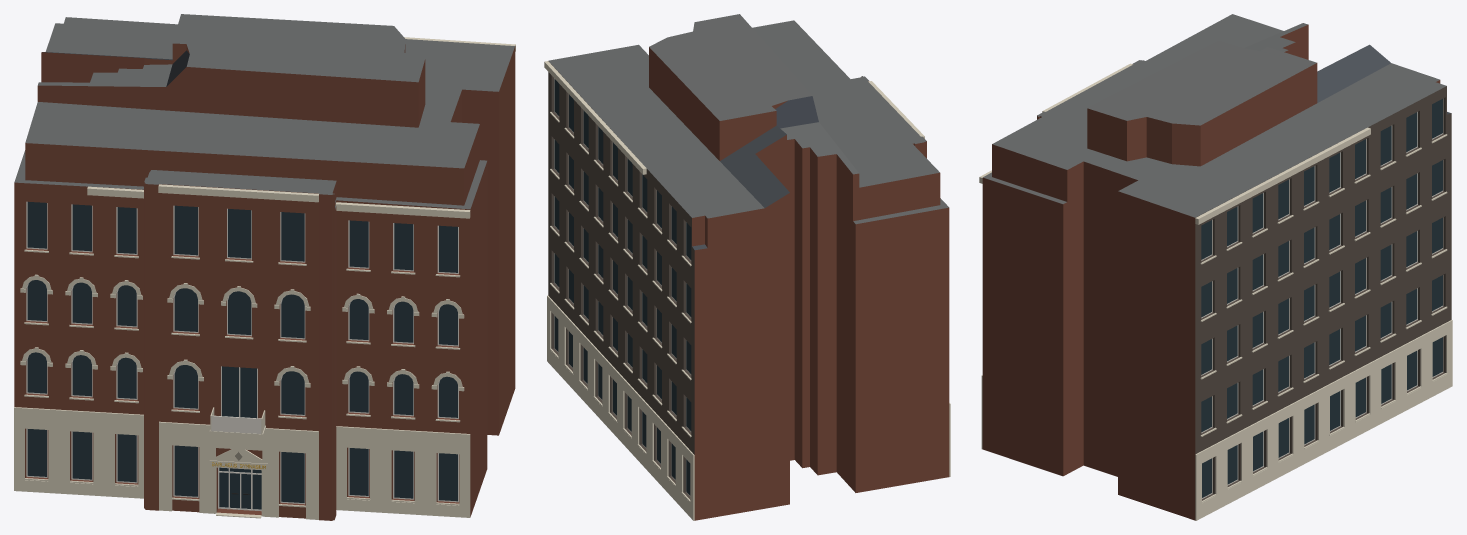
File: recipe-large-barlaeus.glb
The picture shows the model from 3 angles, left to right: view 1: azimuth 30°, elevation 25°; view 2: azimuth 150°, elevation 25°; view 3: azimuth 270°, elevation 25°; orthographic projection. The views are drawn at different scales.
Visible parts, largest first — view 1: barlaeus; view 2: barlaeus; view 3: barlaeus.
Part boxes in pixels (box(x1,y1,x2,y2)): barlaeus: box(14, 14, 515, 520); barlaeus: box(544, 14, 950, 520); barlaeus: box(979, 14, 1452, 520).
Size of the model in its own units: 32.96 by 25.43 by 31.68.
